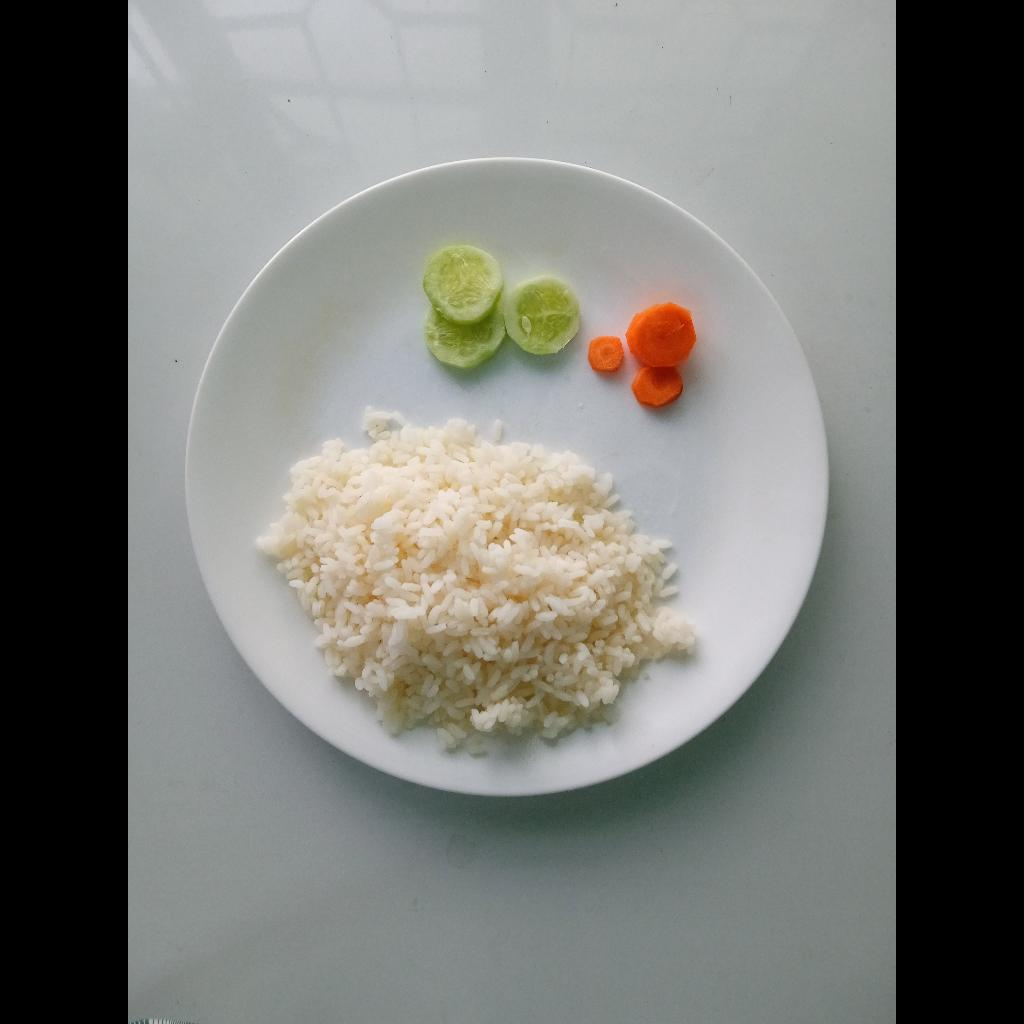carrot: (590, 299, 691, 404)
cucumber: (430, 244, 582, 368)
rice: (262, 430, 706, 740)
